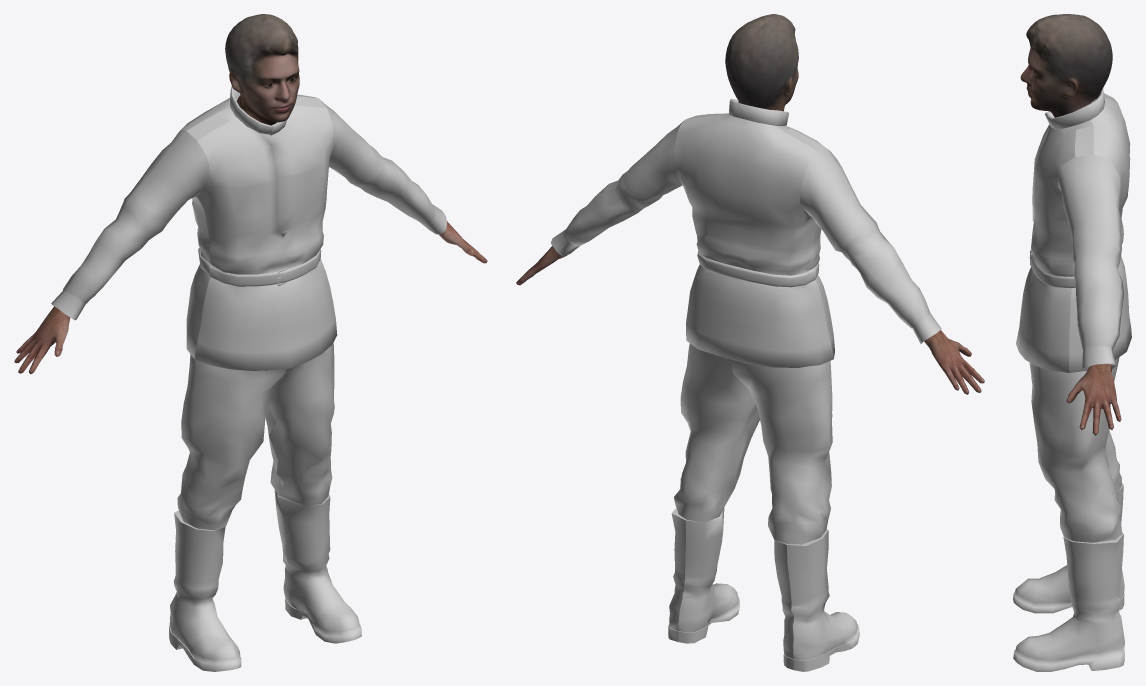
Rendered from MaximNoHat 1.FBX.
The picture shows the model from 3 angles, left to right: view 1: azimuth 30°, elevation 25°; view 2: azimuth 150°, elevation 25°; view 3: azimuth 270°, elevation 25°; orthographic projection.
Parts seen in each view (by area): view 1: lib_rus_soldier.014, default, lib_rus_soldier.004; view 2: lib_rus_soldier.014, default, lib_rus_soldier.004; view 3: lib_rus_soldier.014, default, lib_rus_soldier.004.
Boxes of the visible parts, x1,y1,x2,y2 form: lib_rus_soldier.014: [51, 87, 446, 671]; default: [225, 14, 299, 125]; lib_rus_soldier.004: [14, 221, 487, 374]; lib_rus_soldier.014: [551, 99, 941, 671]; default: [725, 14, 798, 111]; lib_rus_soldier.004: [516, 246, 984, 394]; lib_rus_soldier.014: [1013, 88, 1131, 671]; default: [1020, 14, 1112, 117]; lib_rus_soldier.004: [1066, 364, 1121, 435].
Size of the model in its own units: 14503 by 18530 by 3233.
